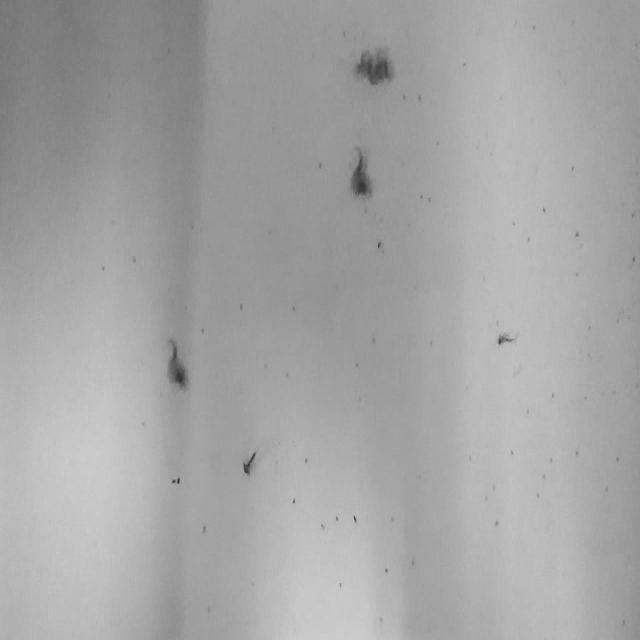larvas: (166, 336, 188, 390), (351, 144, 372, 194), (241, 446, 259, 474), (496, 330, 520, 344)
